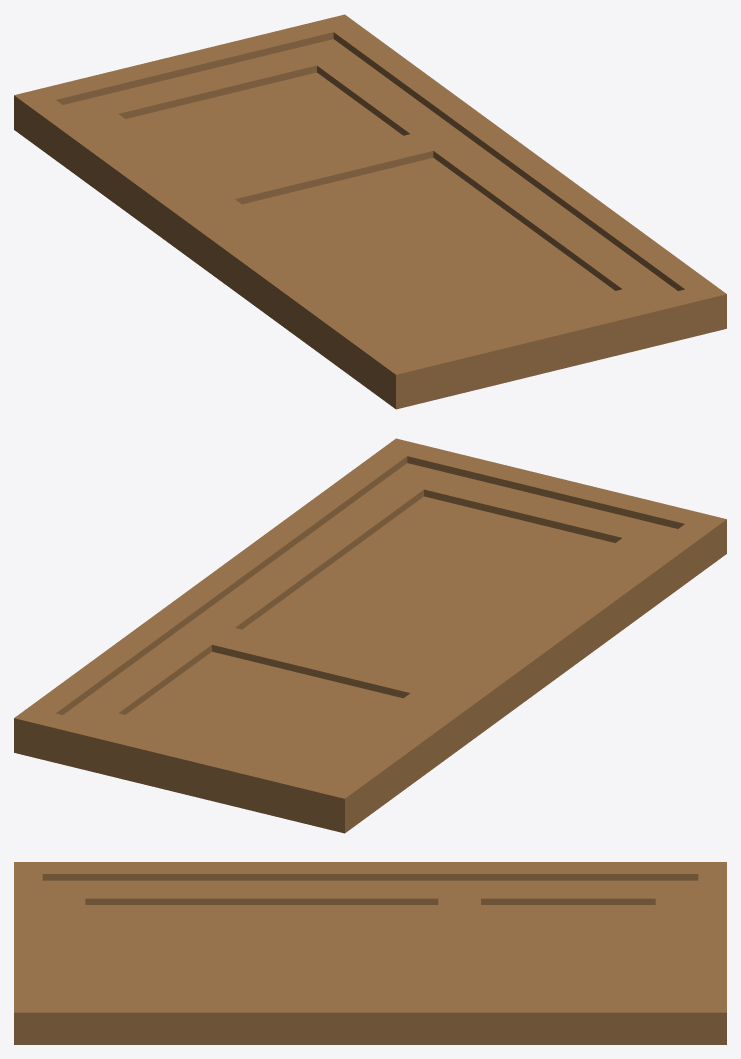
The model's file is door.glb.
3 renders of one model, top to bottom at view 1: azimuth 30°, elevation 25°; view 2: azimuth 150°, elevation 25°; view 3: azimuth 270°, elevation 25°, orthographic. The views are drawn at different scales.
Visible parts, largest first — view 1: door; view 2: door; view 3: door.
Boxes of the visible parts, x1,y1,x2,y2 form: door: (14, 14, 726, 409); door: (14, 438, 726, 833); door: (14, 862, 726, 1044).
Bounding box in the file's own units: 1 × 0.1 × 2.
